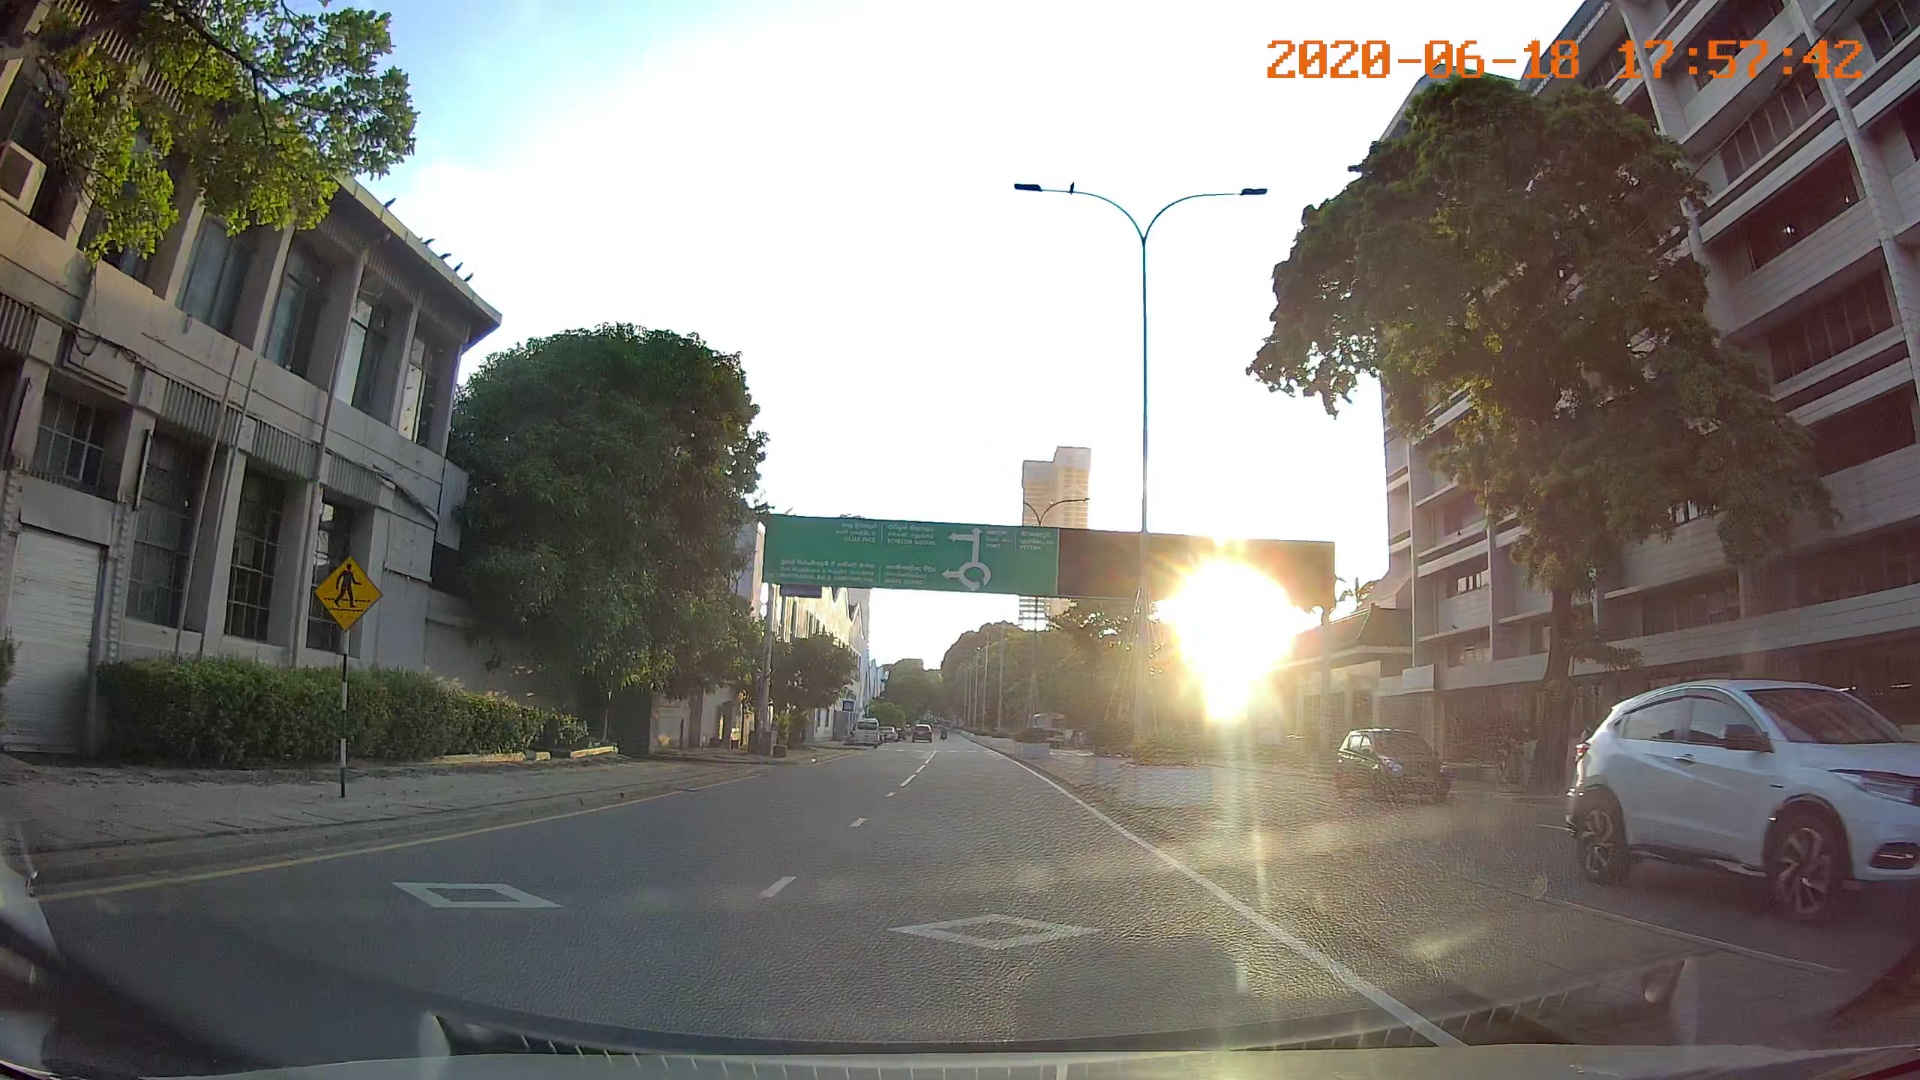diamond: (873, 897, 1112, 967), (381, 857, 559, 928), (382, 886, 397, 891)
